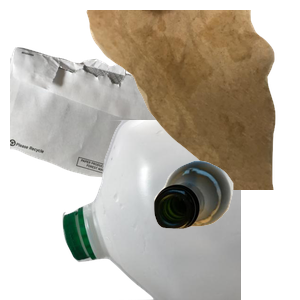glass: (151, 158, 300, 300)
paper: (10, 45, 250, 225)
plastic: (60, 120, 300, 300)
trash: (84, 10, 300, 190)
